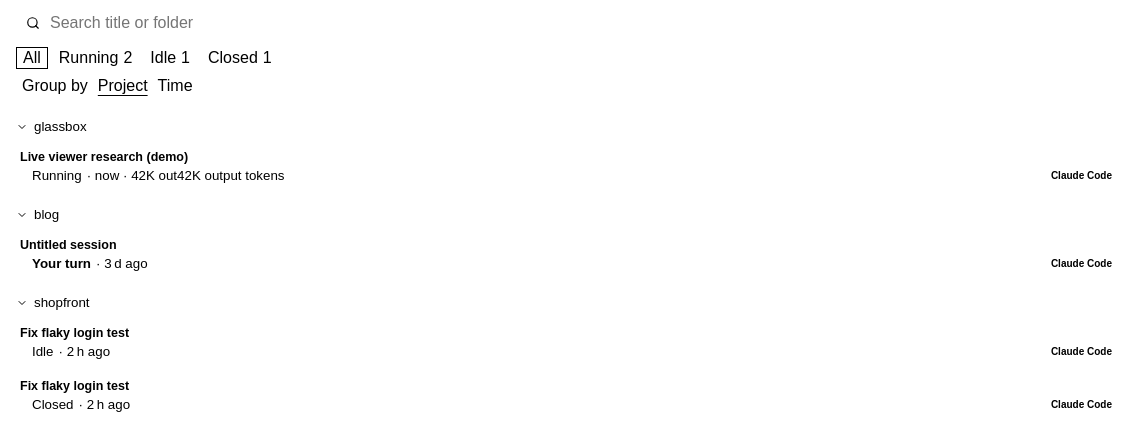
Scenario: SessionSidebar › filters by state from chips, counting waiting as running, and offers the rest back
Click the button "Running 2" at (96, 58), box left=52, top=47, right=139, bottom=69
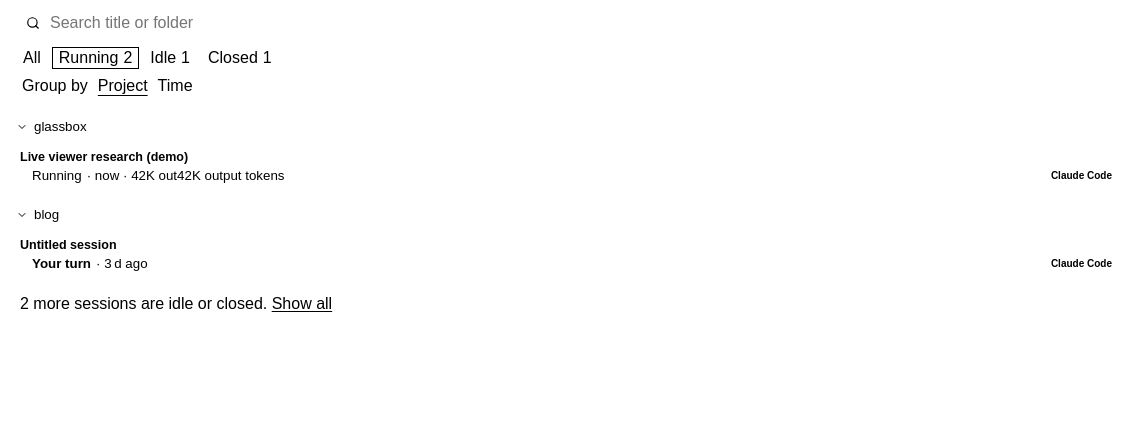
Expected: the text "2 more sessions are idle or closed. Show all" is shown, left=20, top=295, right=332, bottom=313
Click the button "Show all" at (302, 304), box left=272, top=295, right=332, bottom=313
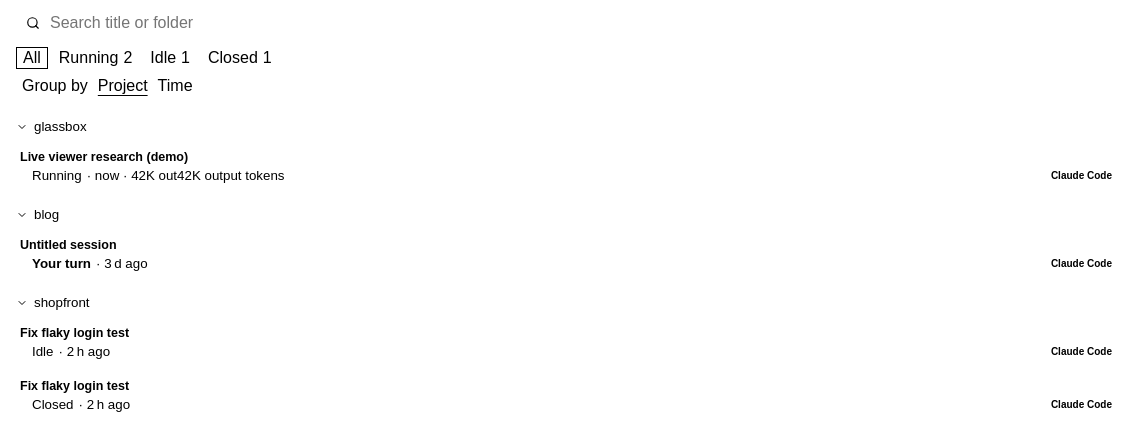
Expected: the text "2 more sessions are idle or closed. Show all" is gone
